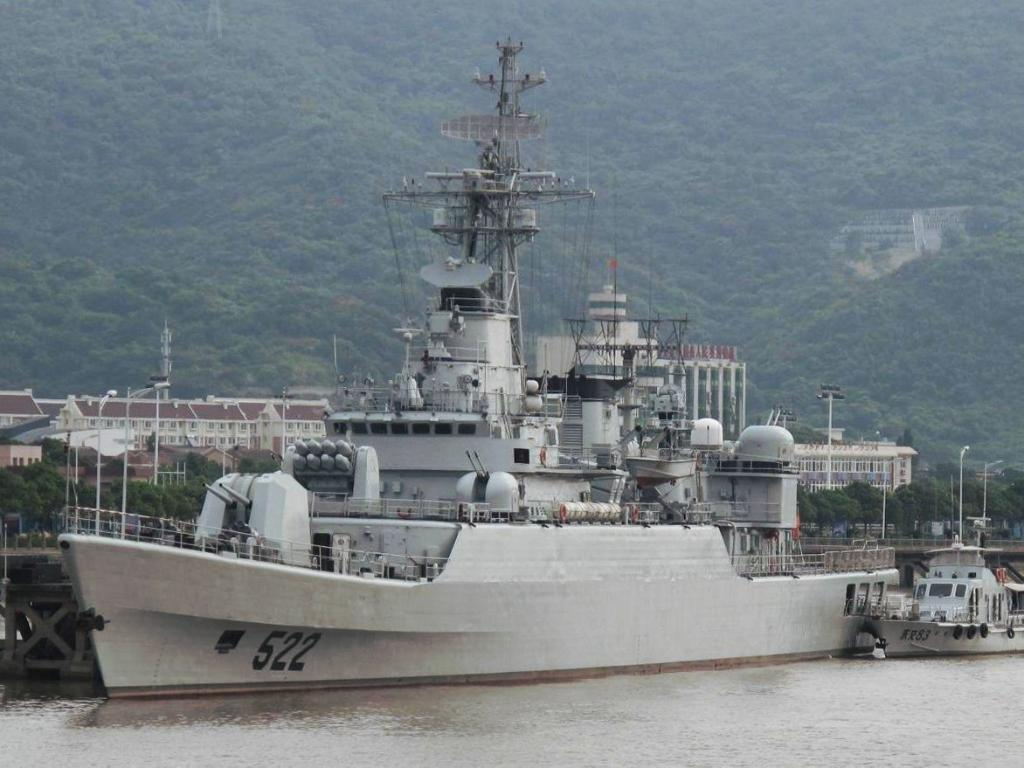PassengerShip: (856, 536, 1024, 660)
